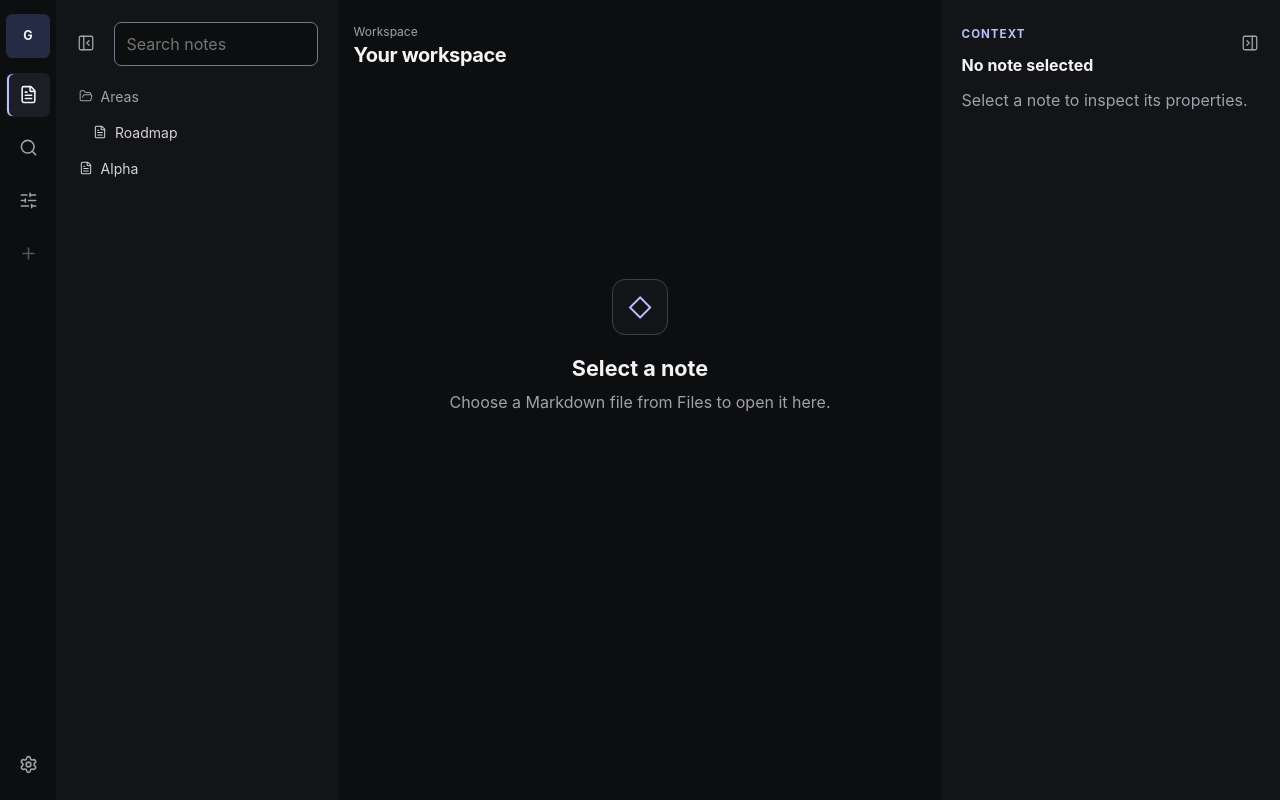
Test case: GMD-002/S1 responsive browse shell › S3/R1-S2 and R1-S3 show honest no-result and recoverable failure states
In the search field labelled "Search notes": (216,44) [114,22,318,66], type "missing"
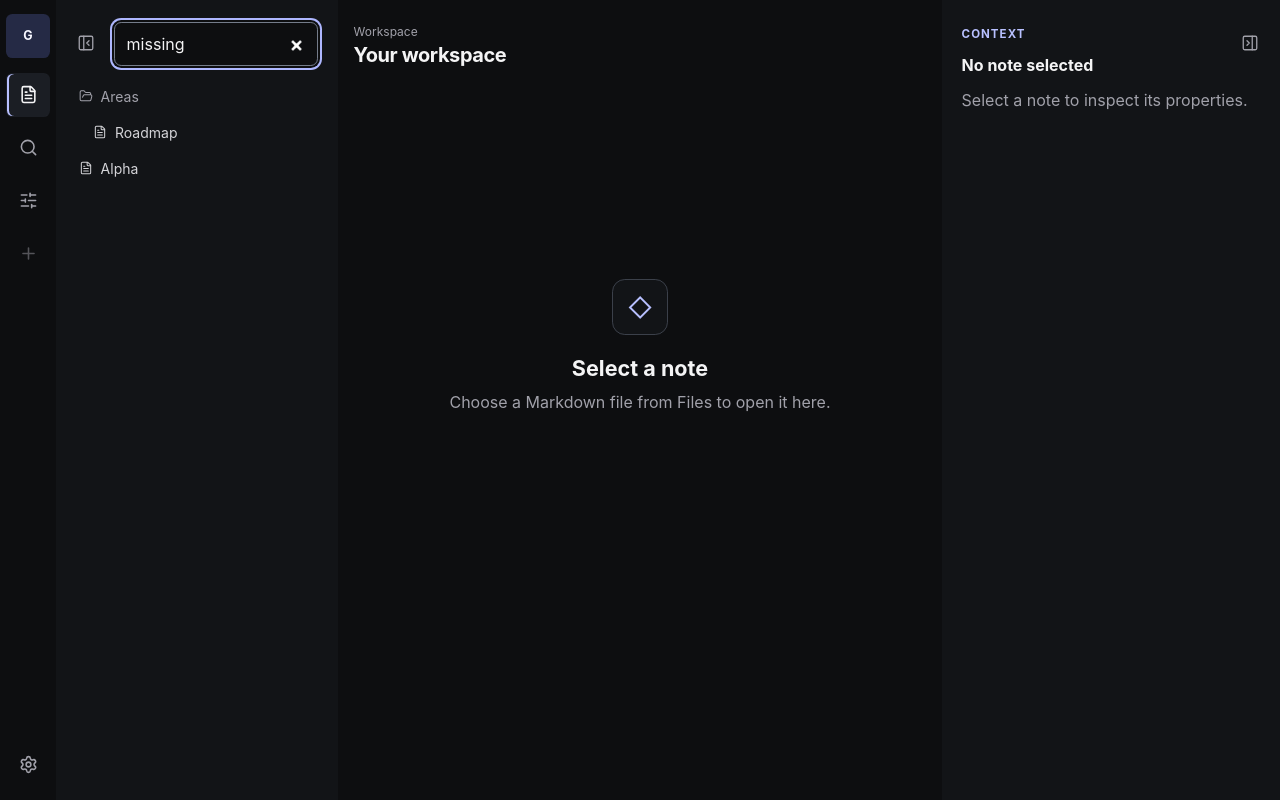
Press Enter
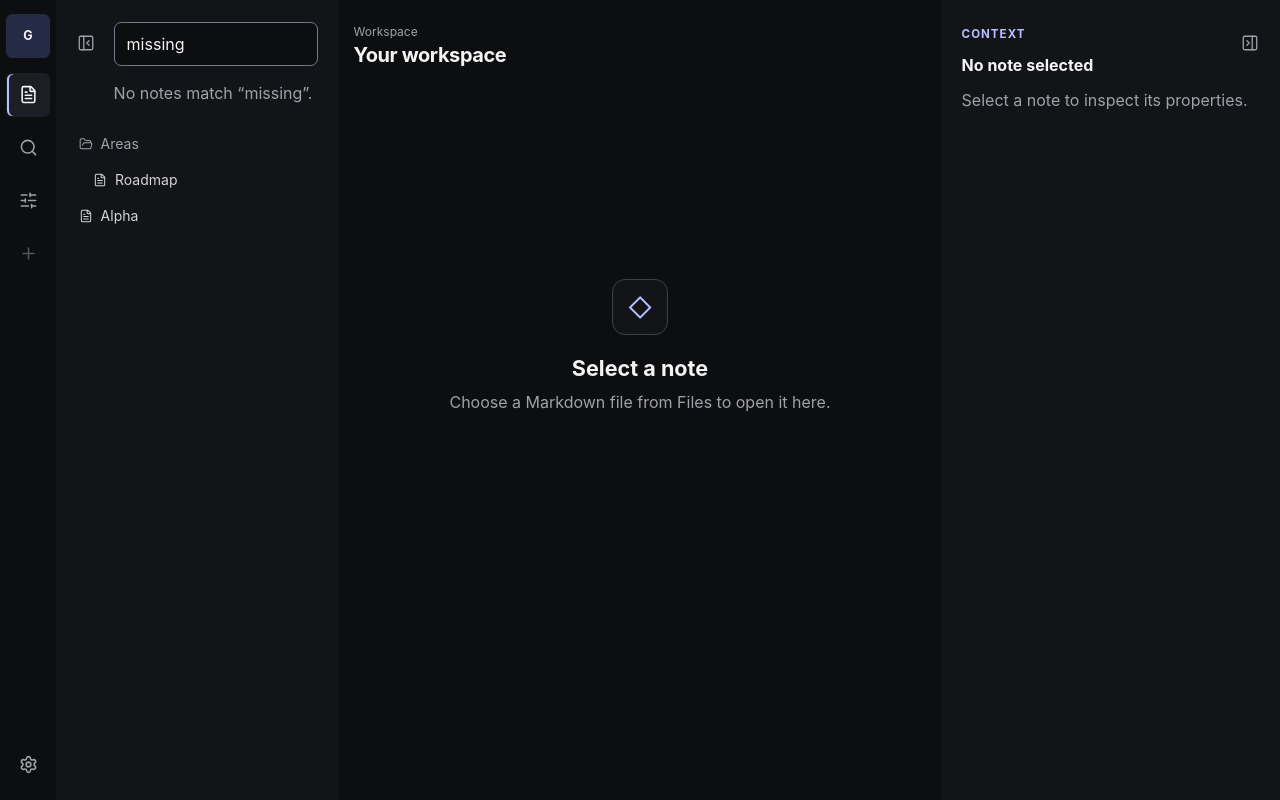
Now the text "No notes match “missing”." is shown, box [114,82,318,106]
Replace the text in the search field named "Search notes" with "broken": (216,44) [114,22,318,66]
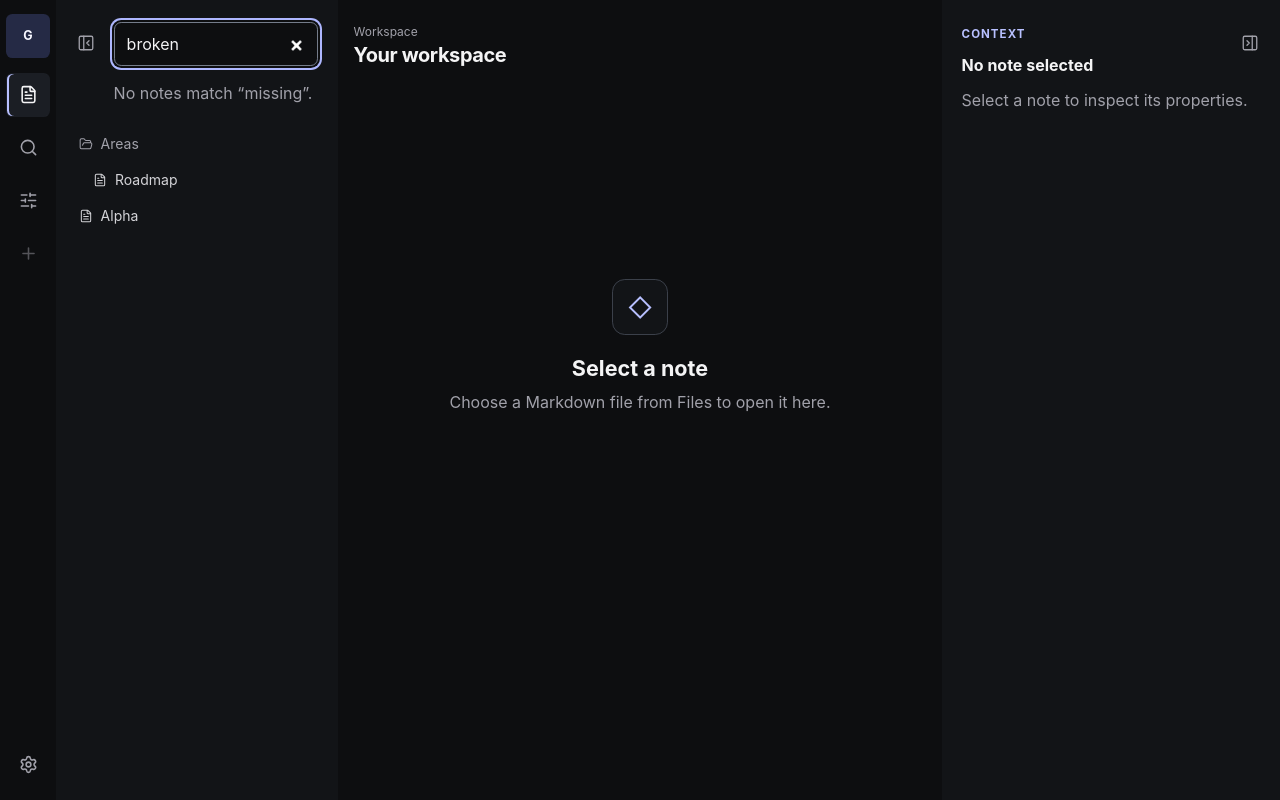
Press Enter
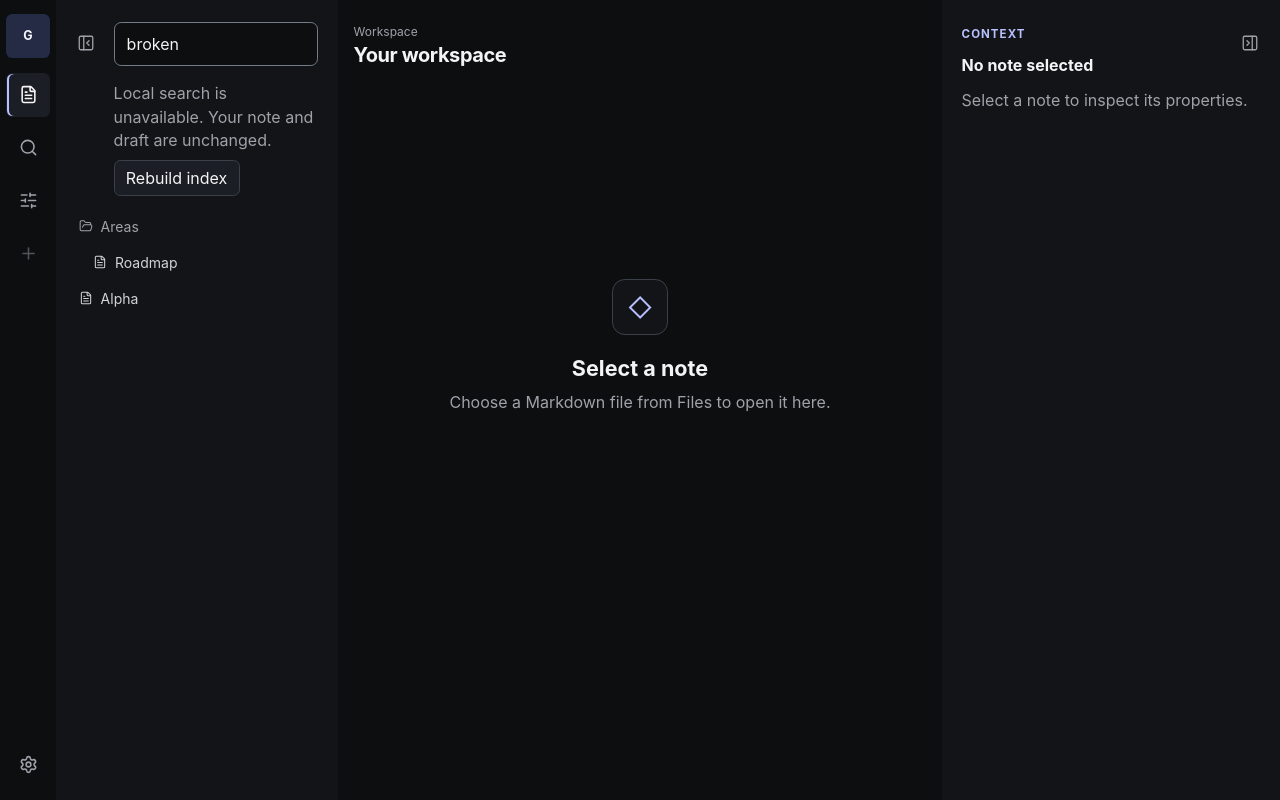
Expected: the heading "Your workspace" is shown, [354,43,506,67]
Now the button "Rebuild index" is shown, box [114,160,240,196]
